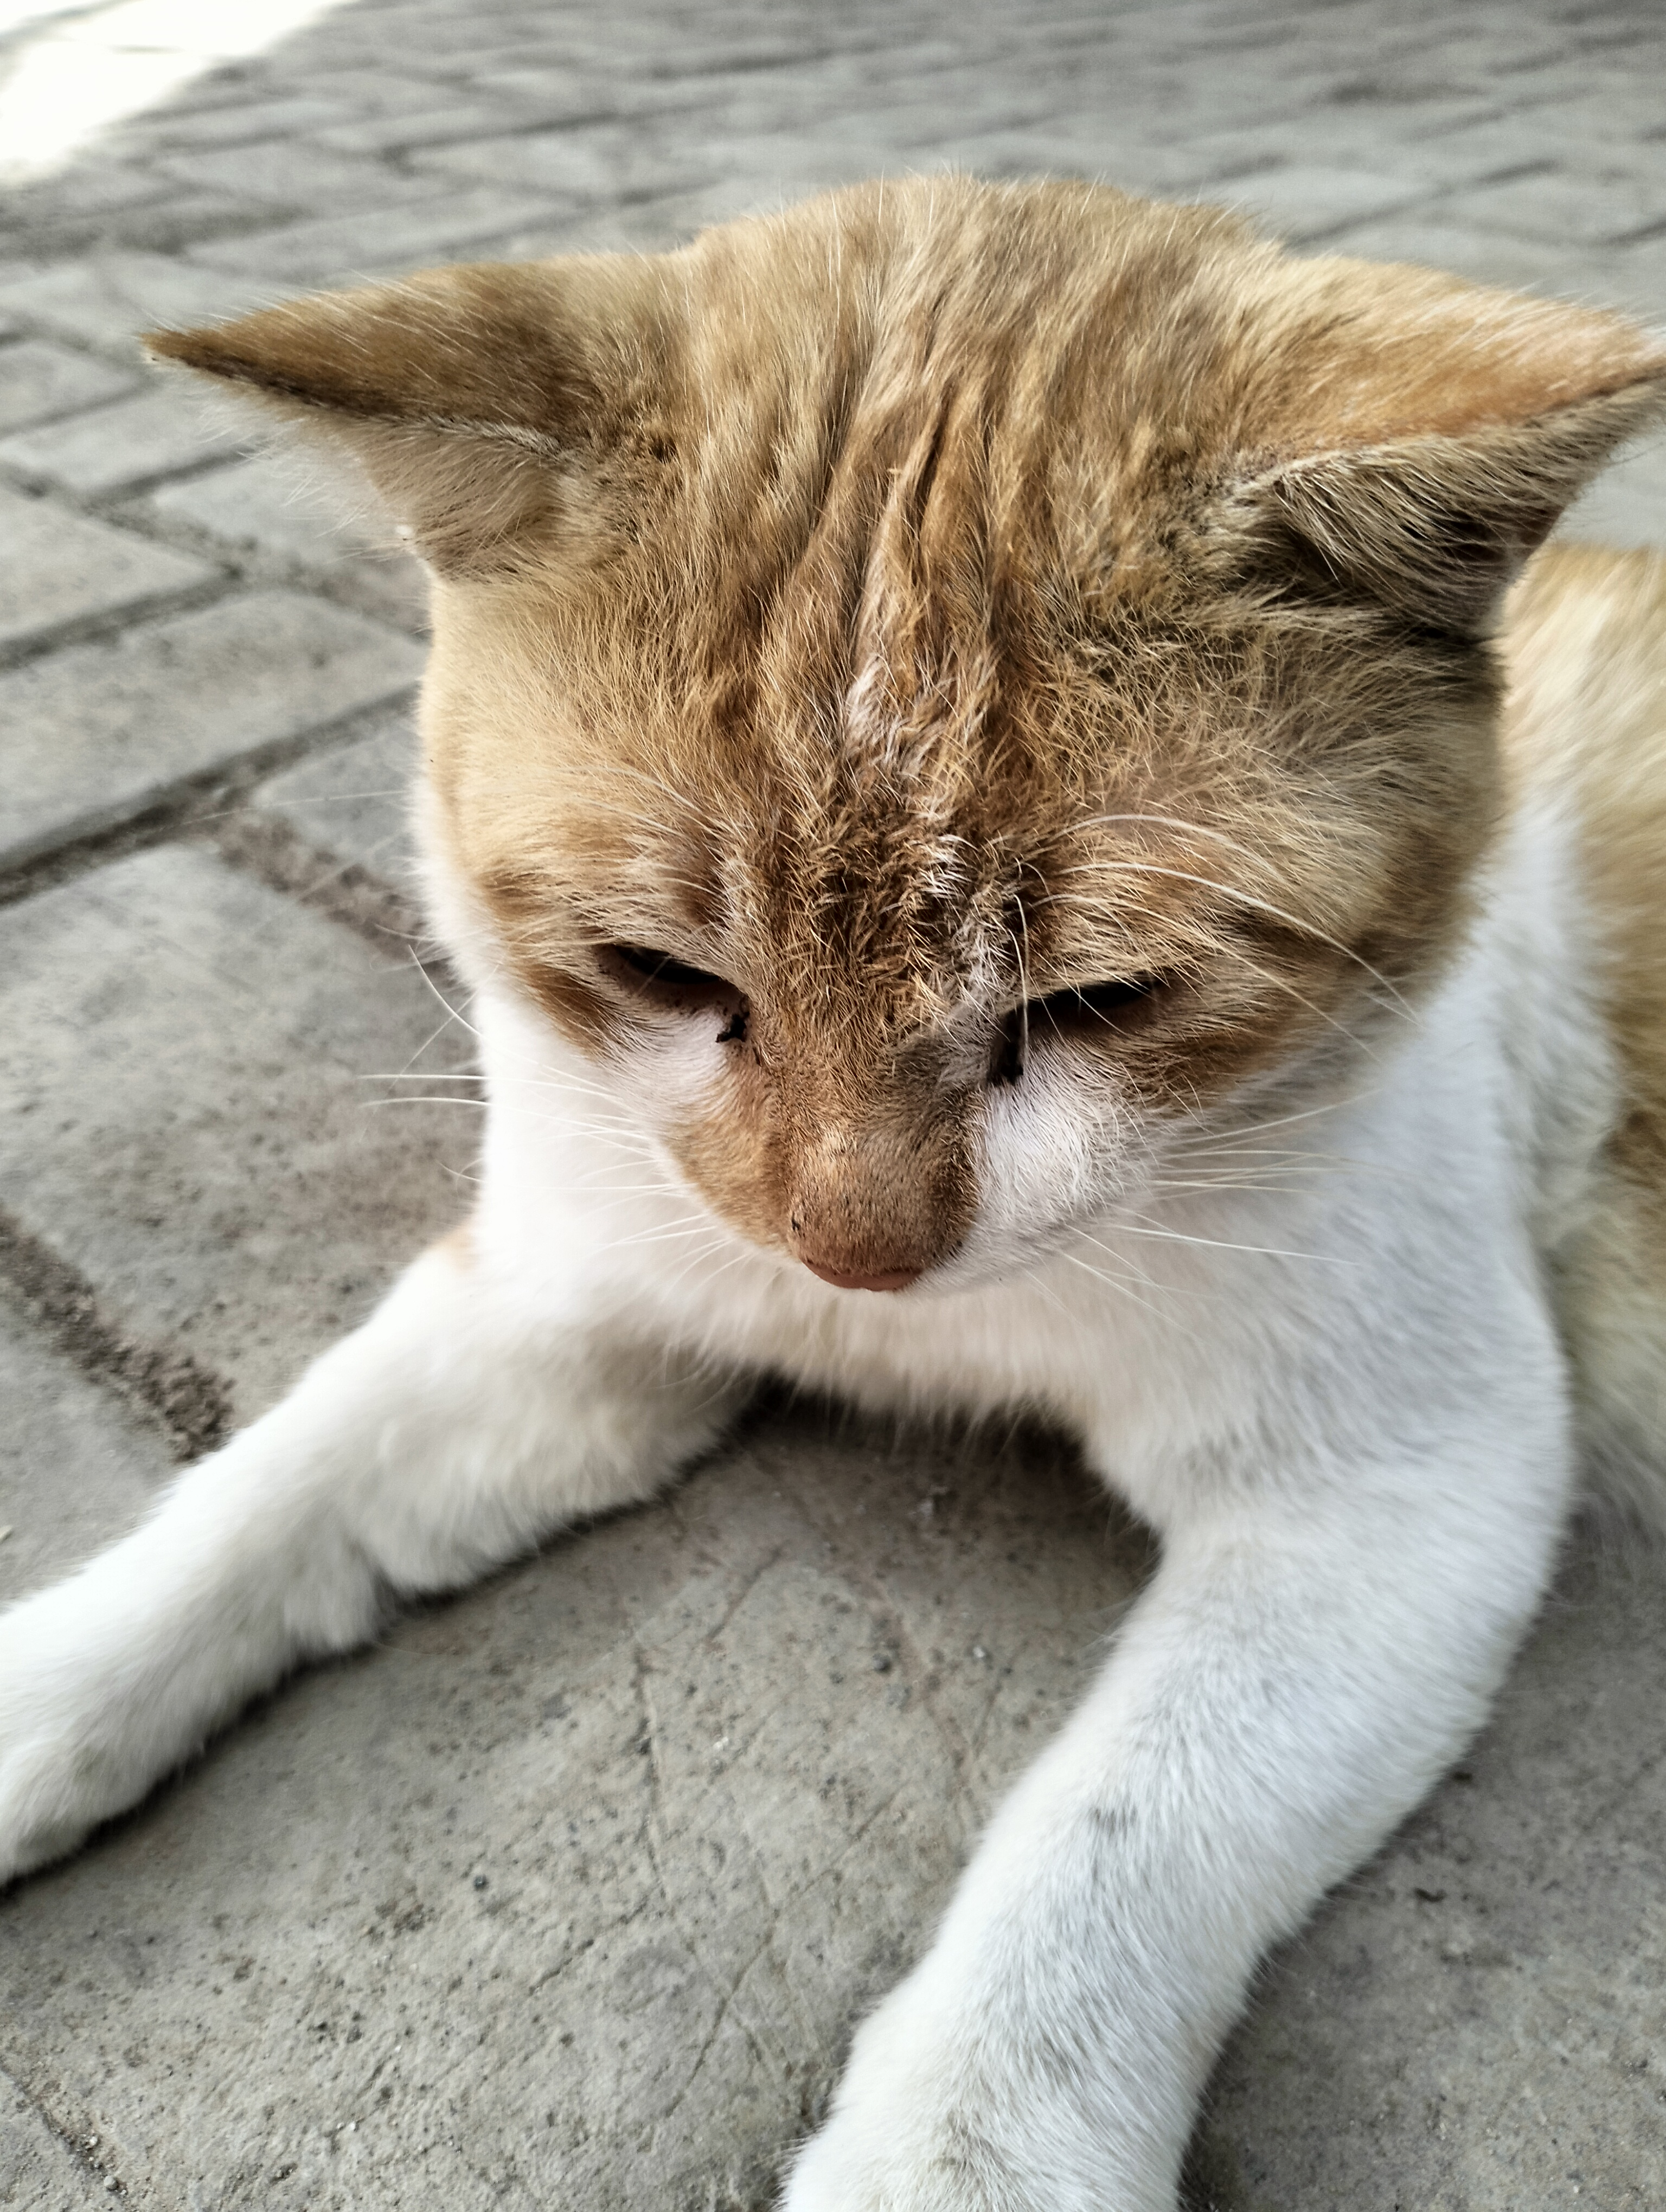oyen: (140, 145, 1666, 1423)
